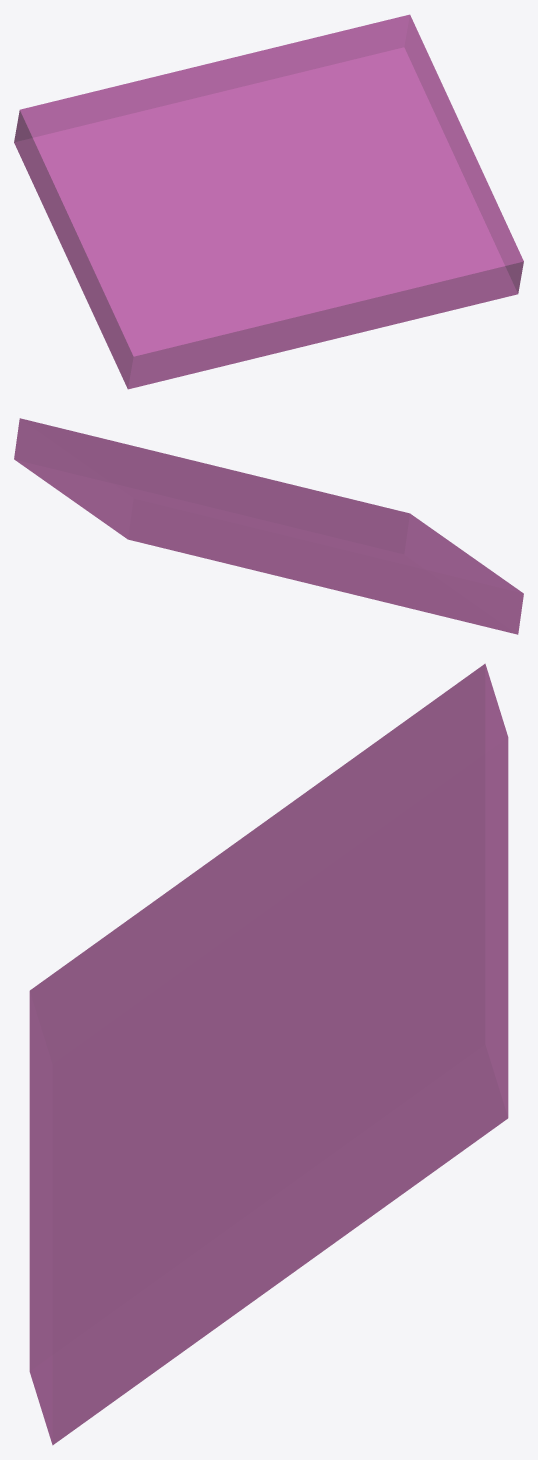
File: SM_Bld_Roof_Half_01_Collision_01.fbx
3 views of the same model, one above another, from view 1: azimuth 30°, elevation 25°; view 2: azimuth 150°, elevation 25°; view 3: azimuth 270°, elevation 25° (orthographic). The views are drawn at different scales.
Parts seen in each view (by area): view 1: SM_Bld_Roof_Half_01_Collision_01; view 2: SM_Bld_Roof_Half_01_Collision_01; view 3: SM_Bld_Roof_Half_01_Collision_01.
Part boxes in pixels (<box>): SM_Bld_Roof_Half_01_Collision_01: <box>14,14,523,389</box>; SM_Bld_Roof_Half_01_Collision_01: <box>14,418,523,634</box>; SM_Bld_Roof_Half_01_Collision_01: <box>29,663,508,1445</box>.
Bounding box in the file's own units: 256 × 126 × 136.
